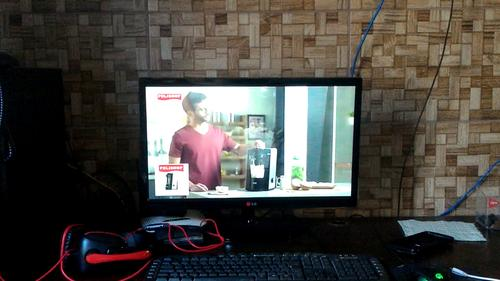Polishop #1: (154, 162, 189, 196)
